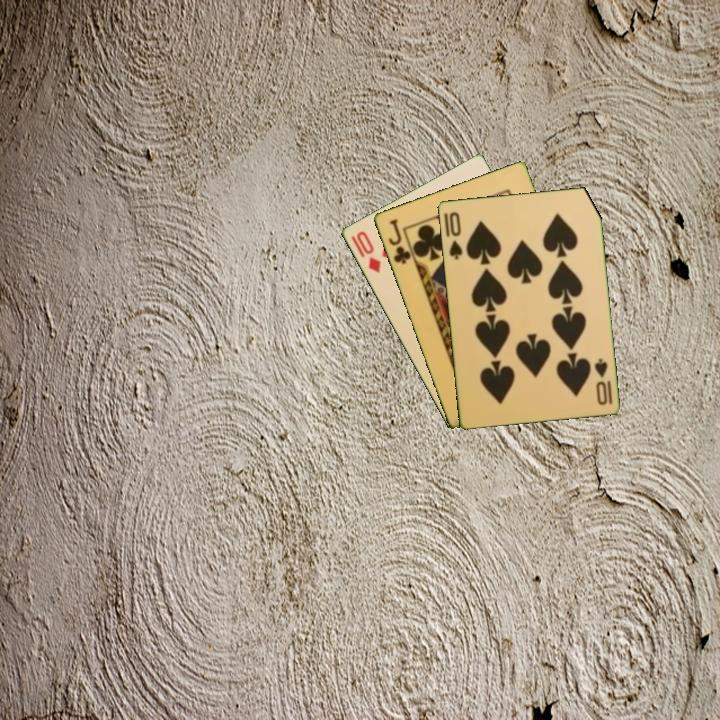10d: (352, 227, 383, 276)
10s: (591, 354, 615, 407), (445, 208, 465, 262)
Jc: (384, 215, 414, 267)
